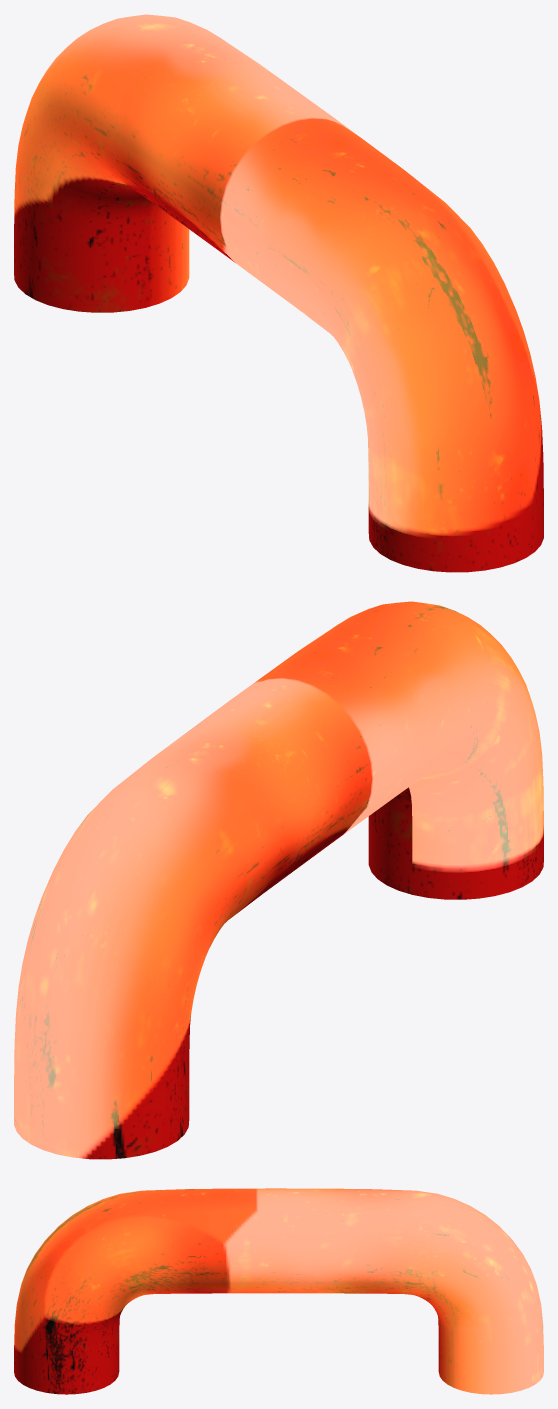
File: SM_IronPipe_curv_01.fbx
3 renders of one model, top to bottom at view 1: azimuth 30°, elevation 25°; view 2: azimuth 150°, elevation 25°; view 3: azimuth 270°, elevation 25°, orthographic. The views are drawn at different scales.
Visible parts, largest first — view 1: SM_IronPipe_curv_01_LOD0; view 2: SM_IronPipe_curv_01_LOD0; view 3: SM_IronPipe_curv_01_LOD0.
Part boxes in pixels (left/top/right/bottom): SM_IronPipe_curv_01_LOD0: left=14, top=14, right=543, bottom=572; SM_IronPipe_curv_01_LOD0: left=14, top=601, right=543, bottom=1159; SM_IronPipe_curv_01_LOD0: left=14, top=1188, right=543, bottom=1394.
Size of the model in its own units: 14.85 by 74.85 by 27.9.
